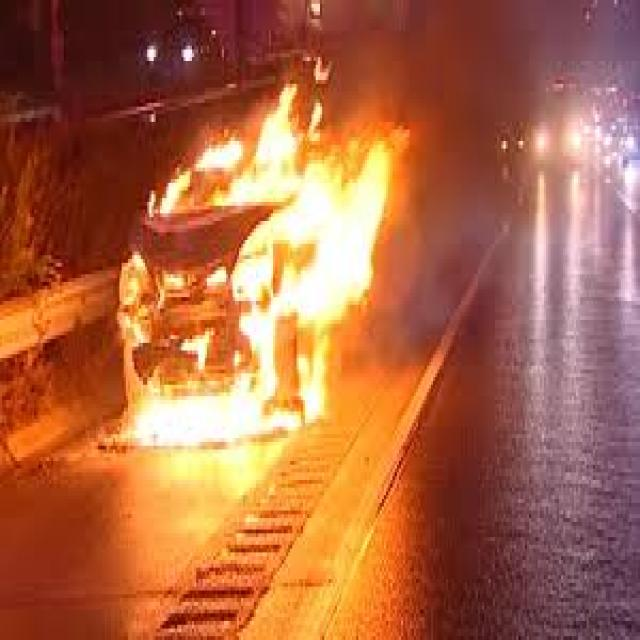Fire: (103, 72, 395, 474)
